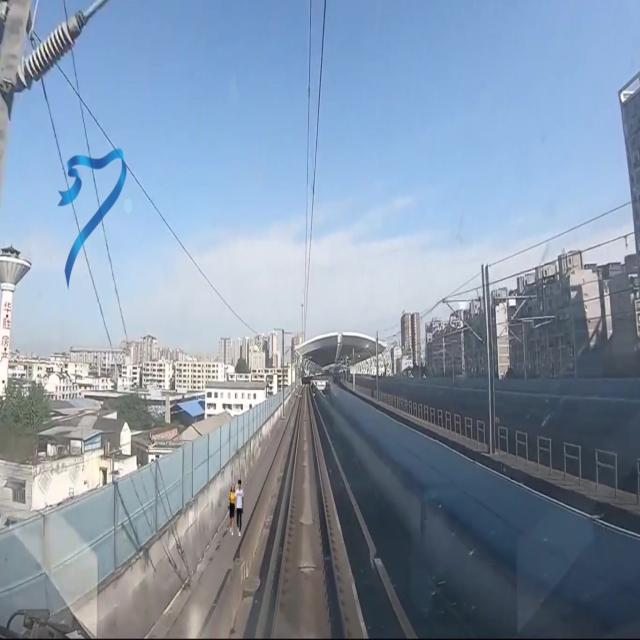floating object: (59, 148, 124, 287)
